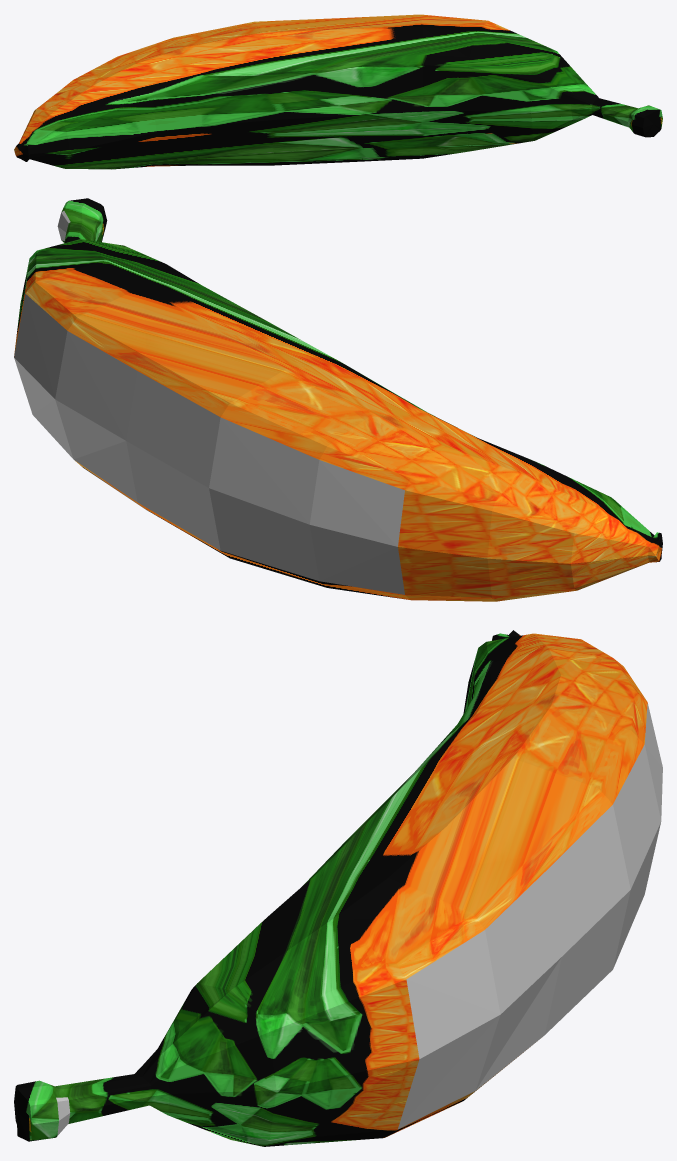
File: fruit2.obj
The picture shows the model from 3 angles, top to bottom: view 1: azimuth 30°, elevation 25°; view 2: azimuth 150°, elevation 25°; view 3: azimuth 270°, elevation 25°; orthographic projection. The views are drawn at different scales.
Parts seen in each view (by area): view 1: Object.1; view 2: Object.1; view 3: Object.1.
Part boxes in pixels (<box>): Object.1: <box>14,14,662,169</box>; Object.1: <box>14,198,662,601</box>; Object.1: <box>14,630,662,1146</box>.
Size of the model in its own units: 554 by 125 by 316.
